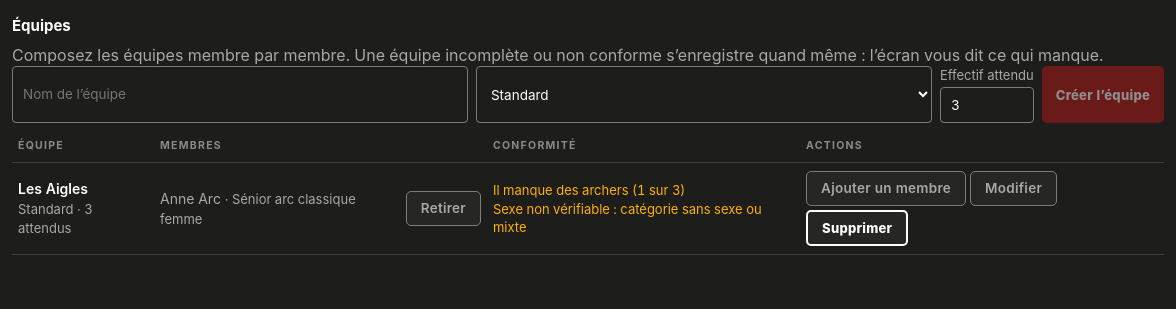
Équipes › supprime une équipe après confirmation, et sa ligne disparaît
The image size is (1176, 309).
Click the button with aria-label "Supprimer l’équipe Les Aigles" at coordinates (857, 228), box [806,210,908,246]
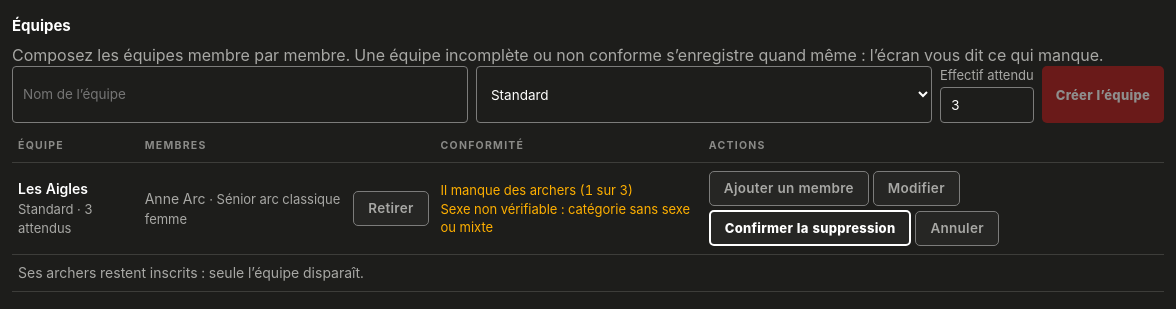
Click the button with aria-label "Confirmer la suppression de l’équipe Les Aigles" at coordinates (810, 228), box [709,210,911,246]
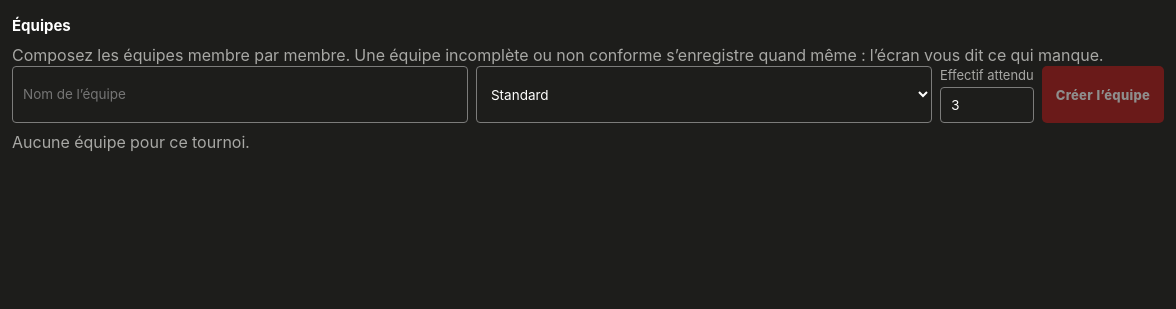
Expected: the text "Aucune équipe pour ce tournoi." is shown, [12,132,250,152]
Expected: the text "Les Aigles" is gone
